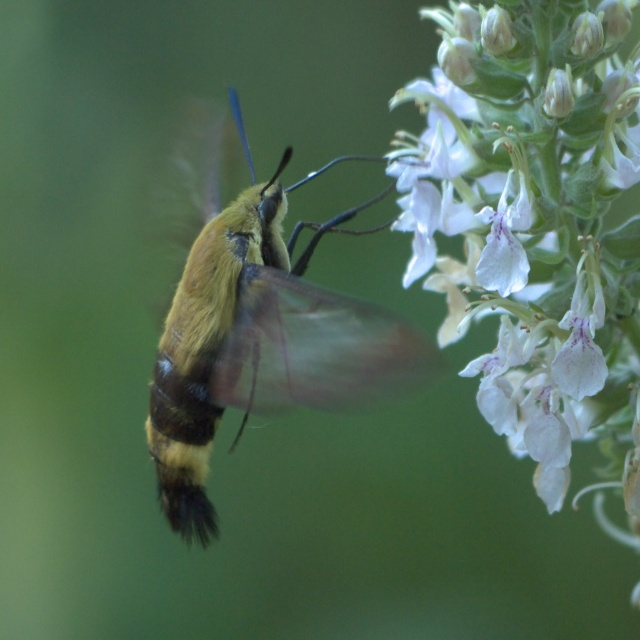Moths and butterflies: (128, 85, 444, 554)
